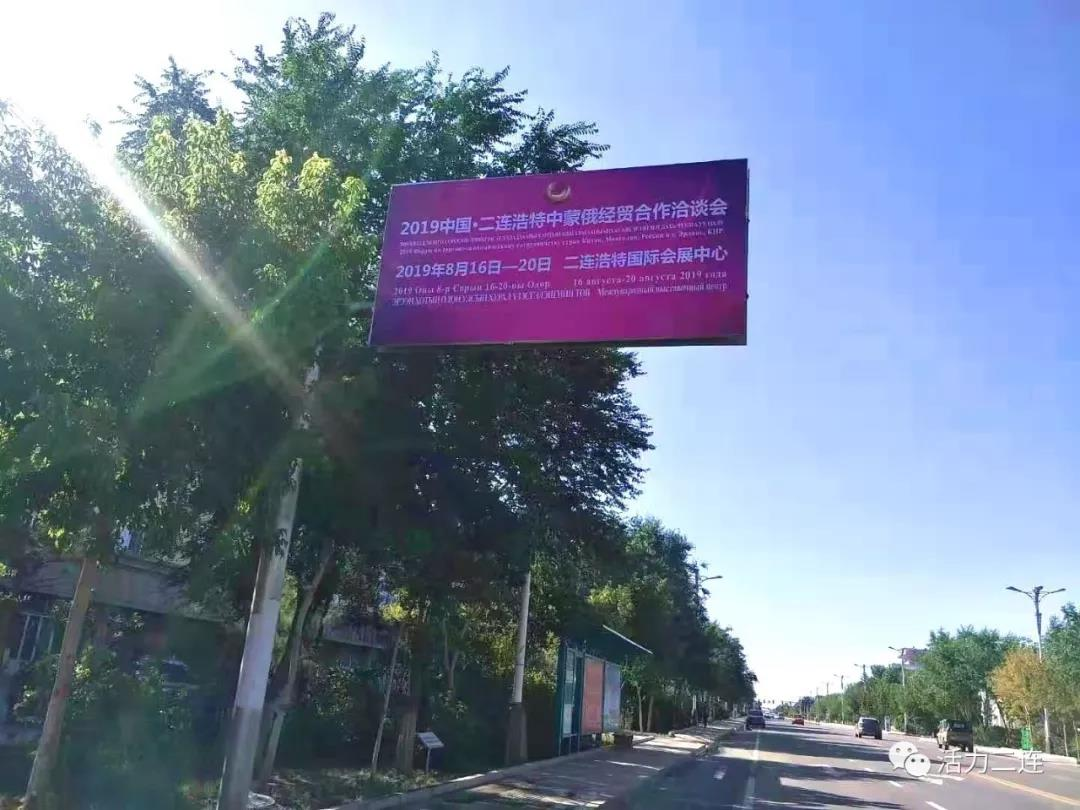bill: (377, 166, 746, 350)
